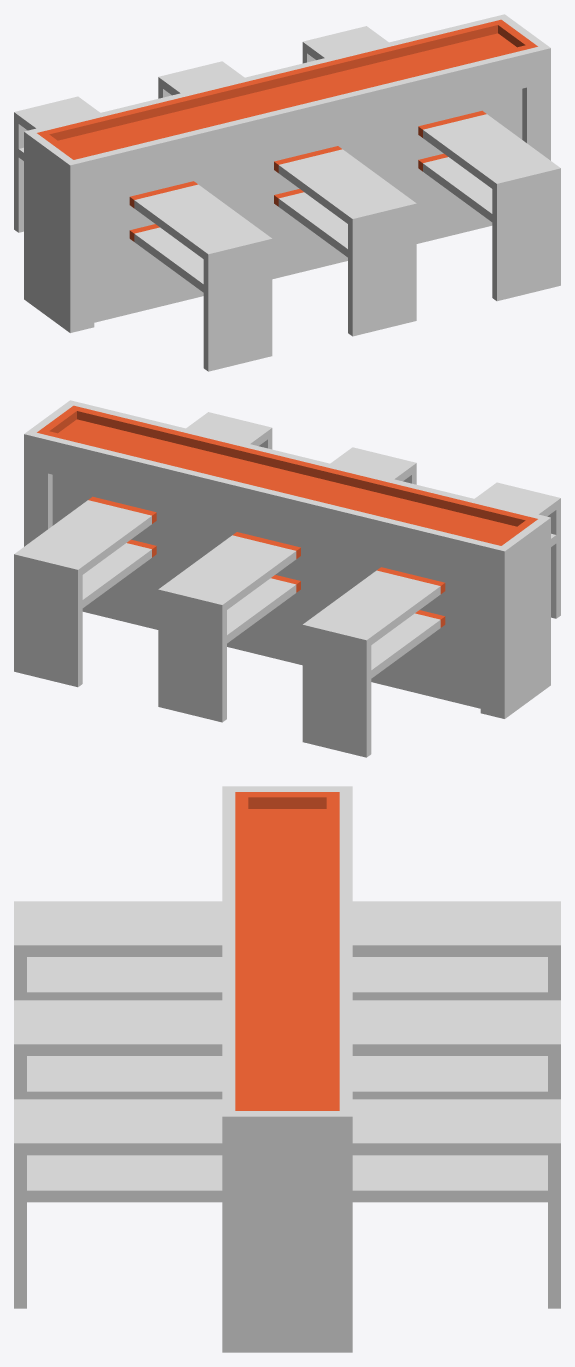
File: Commisary Half Wall Tables.obj
The picture shows the model from 3 angles, top to bottom: view 1: azimuth 30°, elevation 25°; view 2: azimuth 150°, elevation 25°; view 3: azimuth 270°, elevation 25°; orthographic projection. The views are drawn at different scales.
Size of the model in its own units: 60 by 20 by 42.
1 material, 1 textured.
